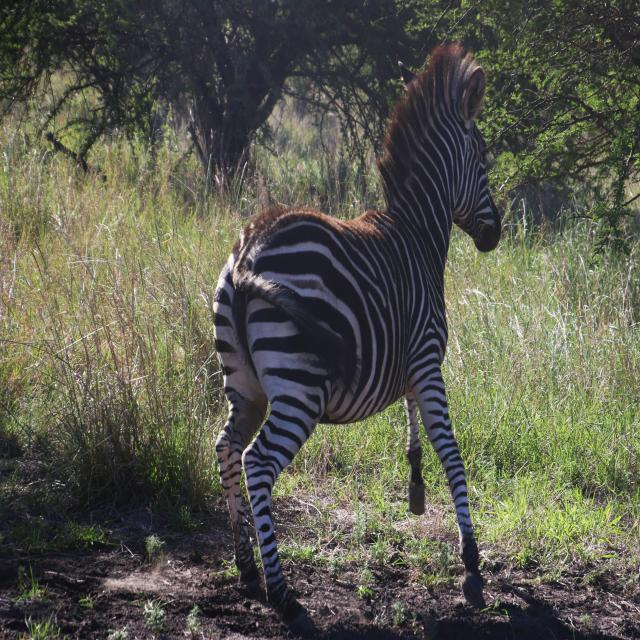Zebra: (215, 37, 502, 614)
